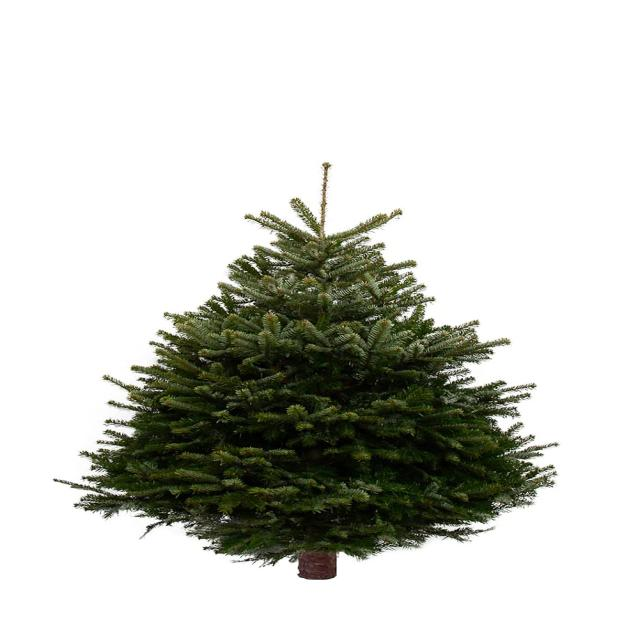Christmas-tree: (58, 143, 574, 589)
